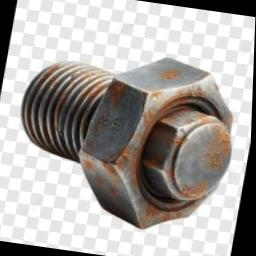Non-Corroded-Nut-and-Bolt: (21, 57, 234, 230)
